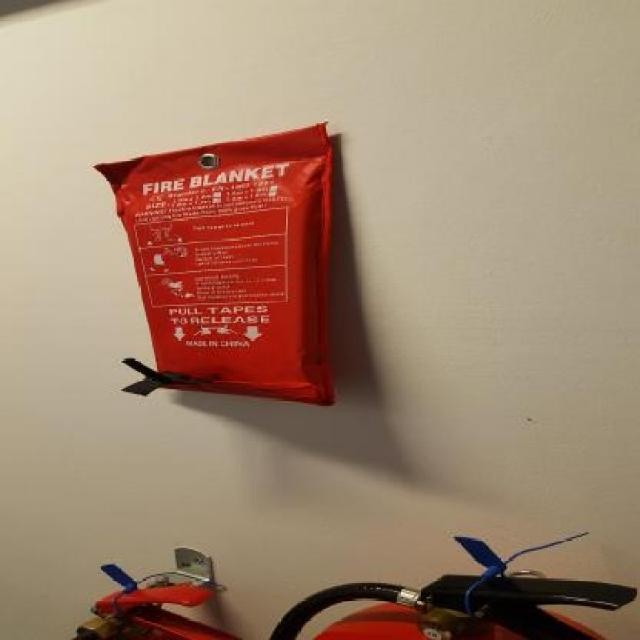fire extinguisher: (267, 574, 636, 637), (73, 586, 238, 637)
